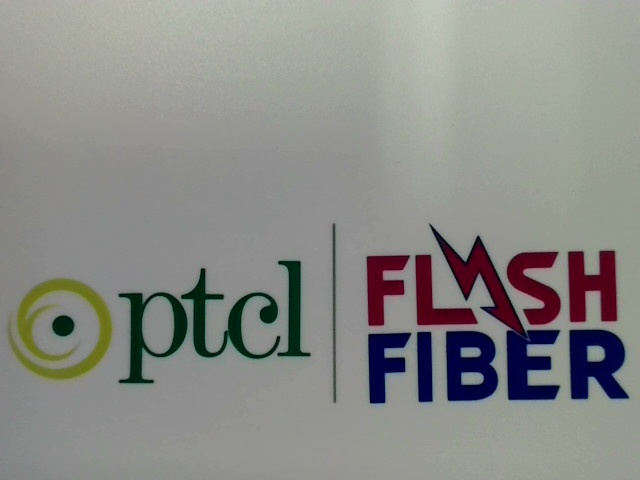BF_PTCL: (6, 255, 317, 393)
